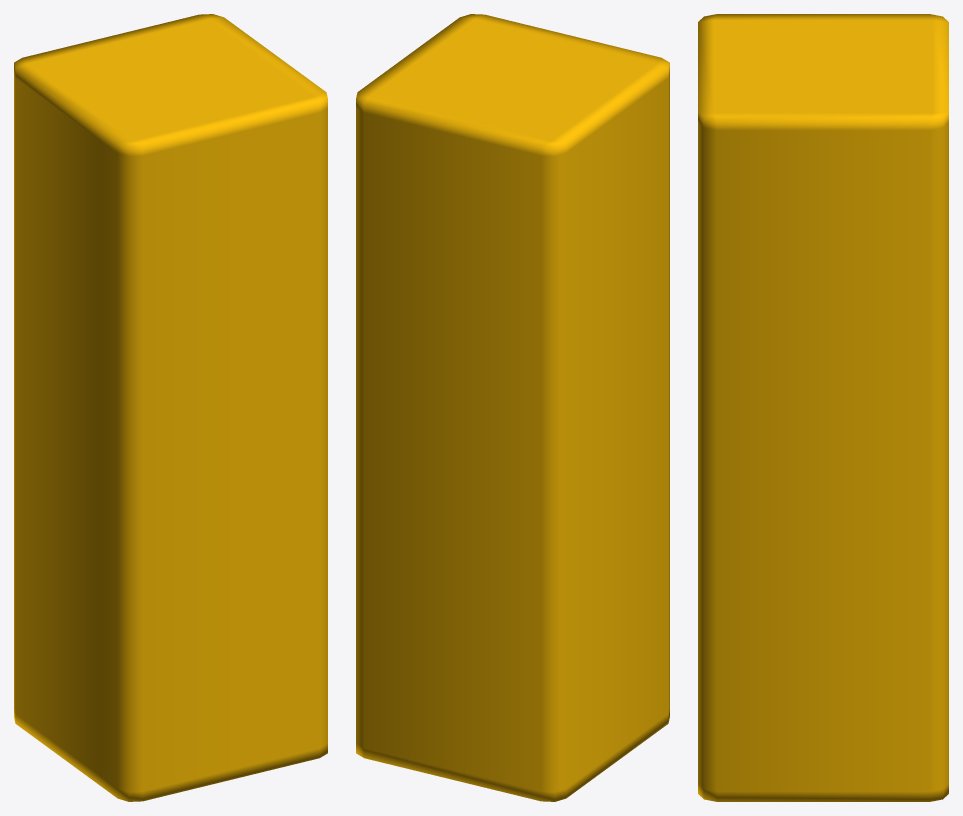
The model's file is wooden_block_1x3_01.FBX.
3 renders of one model, left to right at view 1: azimuth 30°, elevation 25°; view 2: azimuth 150°, elevation 25°; view 3: azimuth 270°, elevation 25°, orthographic. The views are drawn at different scales.
Parts seen in each view (by area): view 1: wooden_block_1x3_01; view 2: wooden_block_1x3_01; view 3: wooden_block_1x3_01.
Boxes of the visible parts, bbox=[...] form: wooden_block_1x3_01: bbox=[14, 14, 327, 801]; wooden_block_1x3_01: bbox=[356, 14, 669, 801]; wooden_block_1x3_01: bbox=[698, 14, 948, 801].
Bounding box in the file's own units: 196 × 588 × 196.
